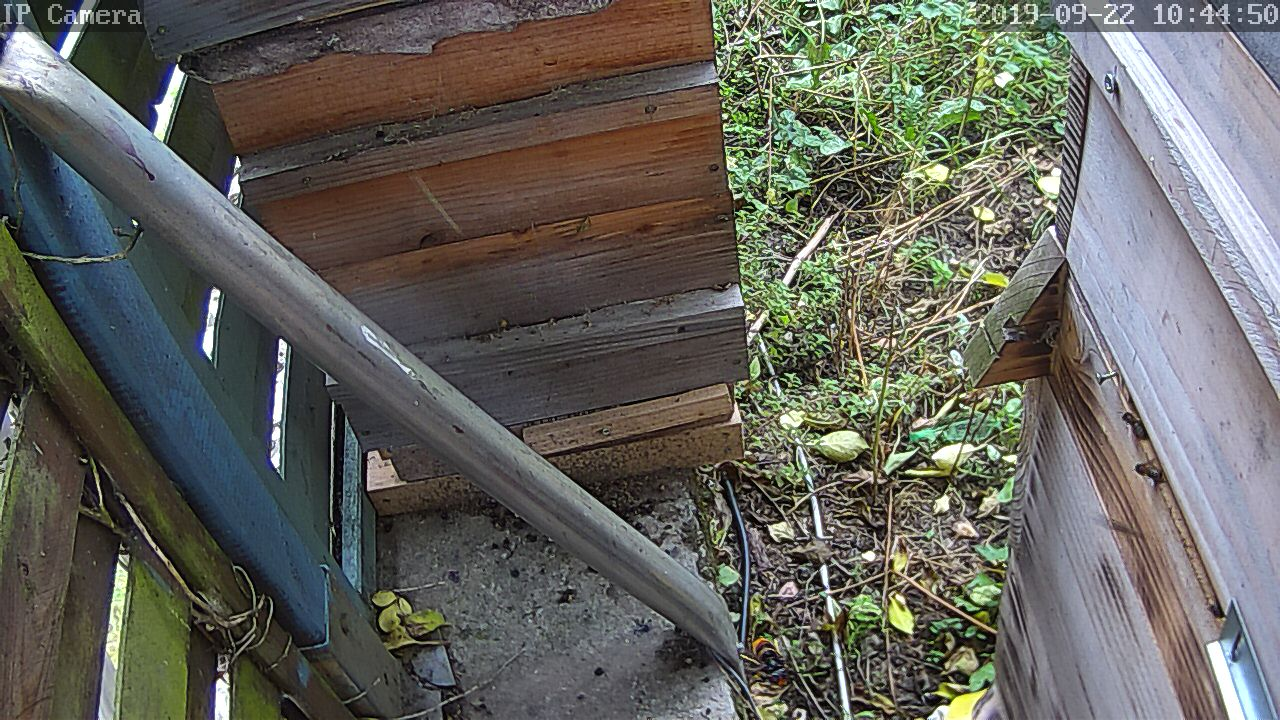bee: (1131, 449, 1173, 485), (1115, 402, 1148, 437)
hornet: (741, 628, 788, 674)
